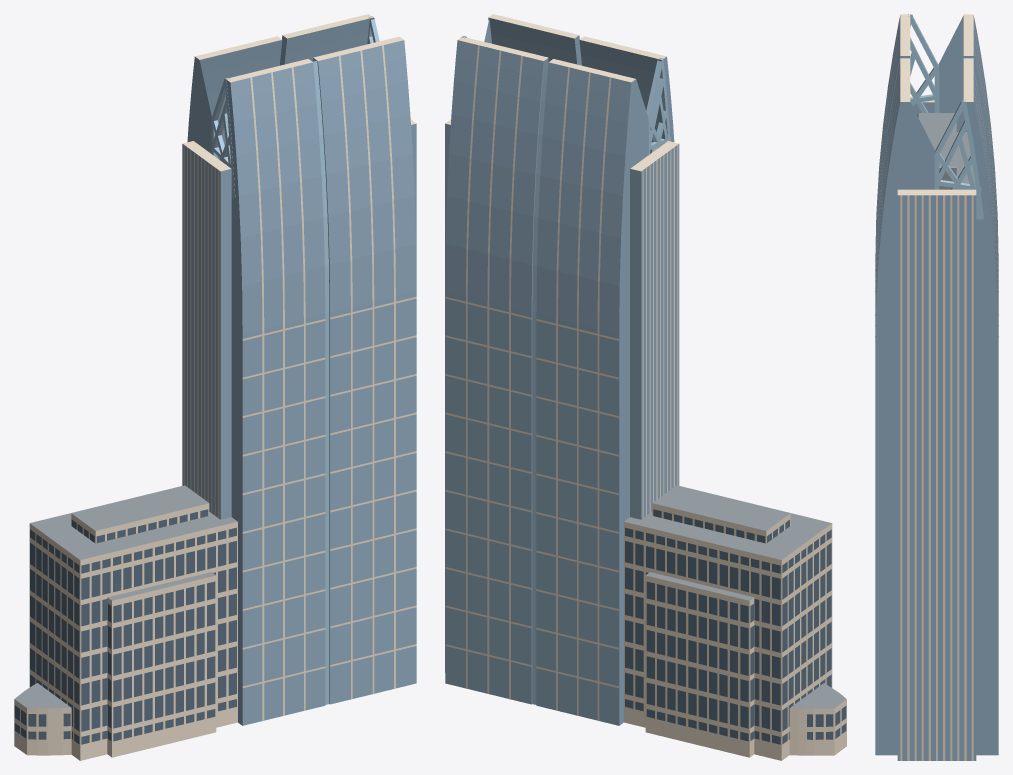
Rendered from atl-1180-peachtree.glb.
3 views of the same model, side by side, from view 1: azimuth 30°, elevation 25°; view 2: azimuth 150°, elevation 25°; view 3: azimuth 270°, elevation 25° (orthographic). The views are drawn at different scales.
Visible parts, largest first — view 1: 1180 Peachtree; view 2: 1180 Peachtree; view 3: 1180 Peachtree.
Boxes of the visible parts, x1=… form: 1180 Peachtree: x1=14, y1=14, x2=416, y2=760; 1180 Peachtree: x1=445, y1=14, x2=846, y2=760; 1180 Peachtree: x1=875, y1=14, x2=998, y2=760.
Size of the model in its own units: 126 by 202 by 34.72.
